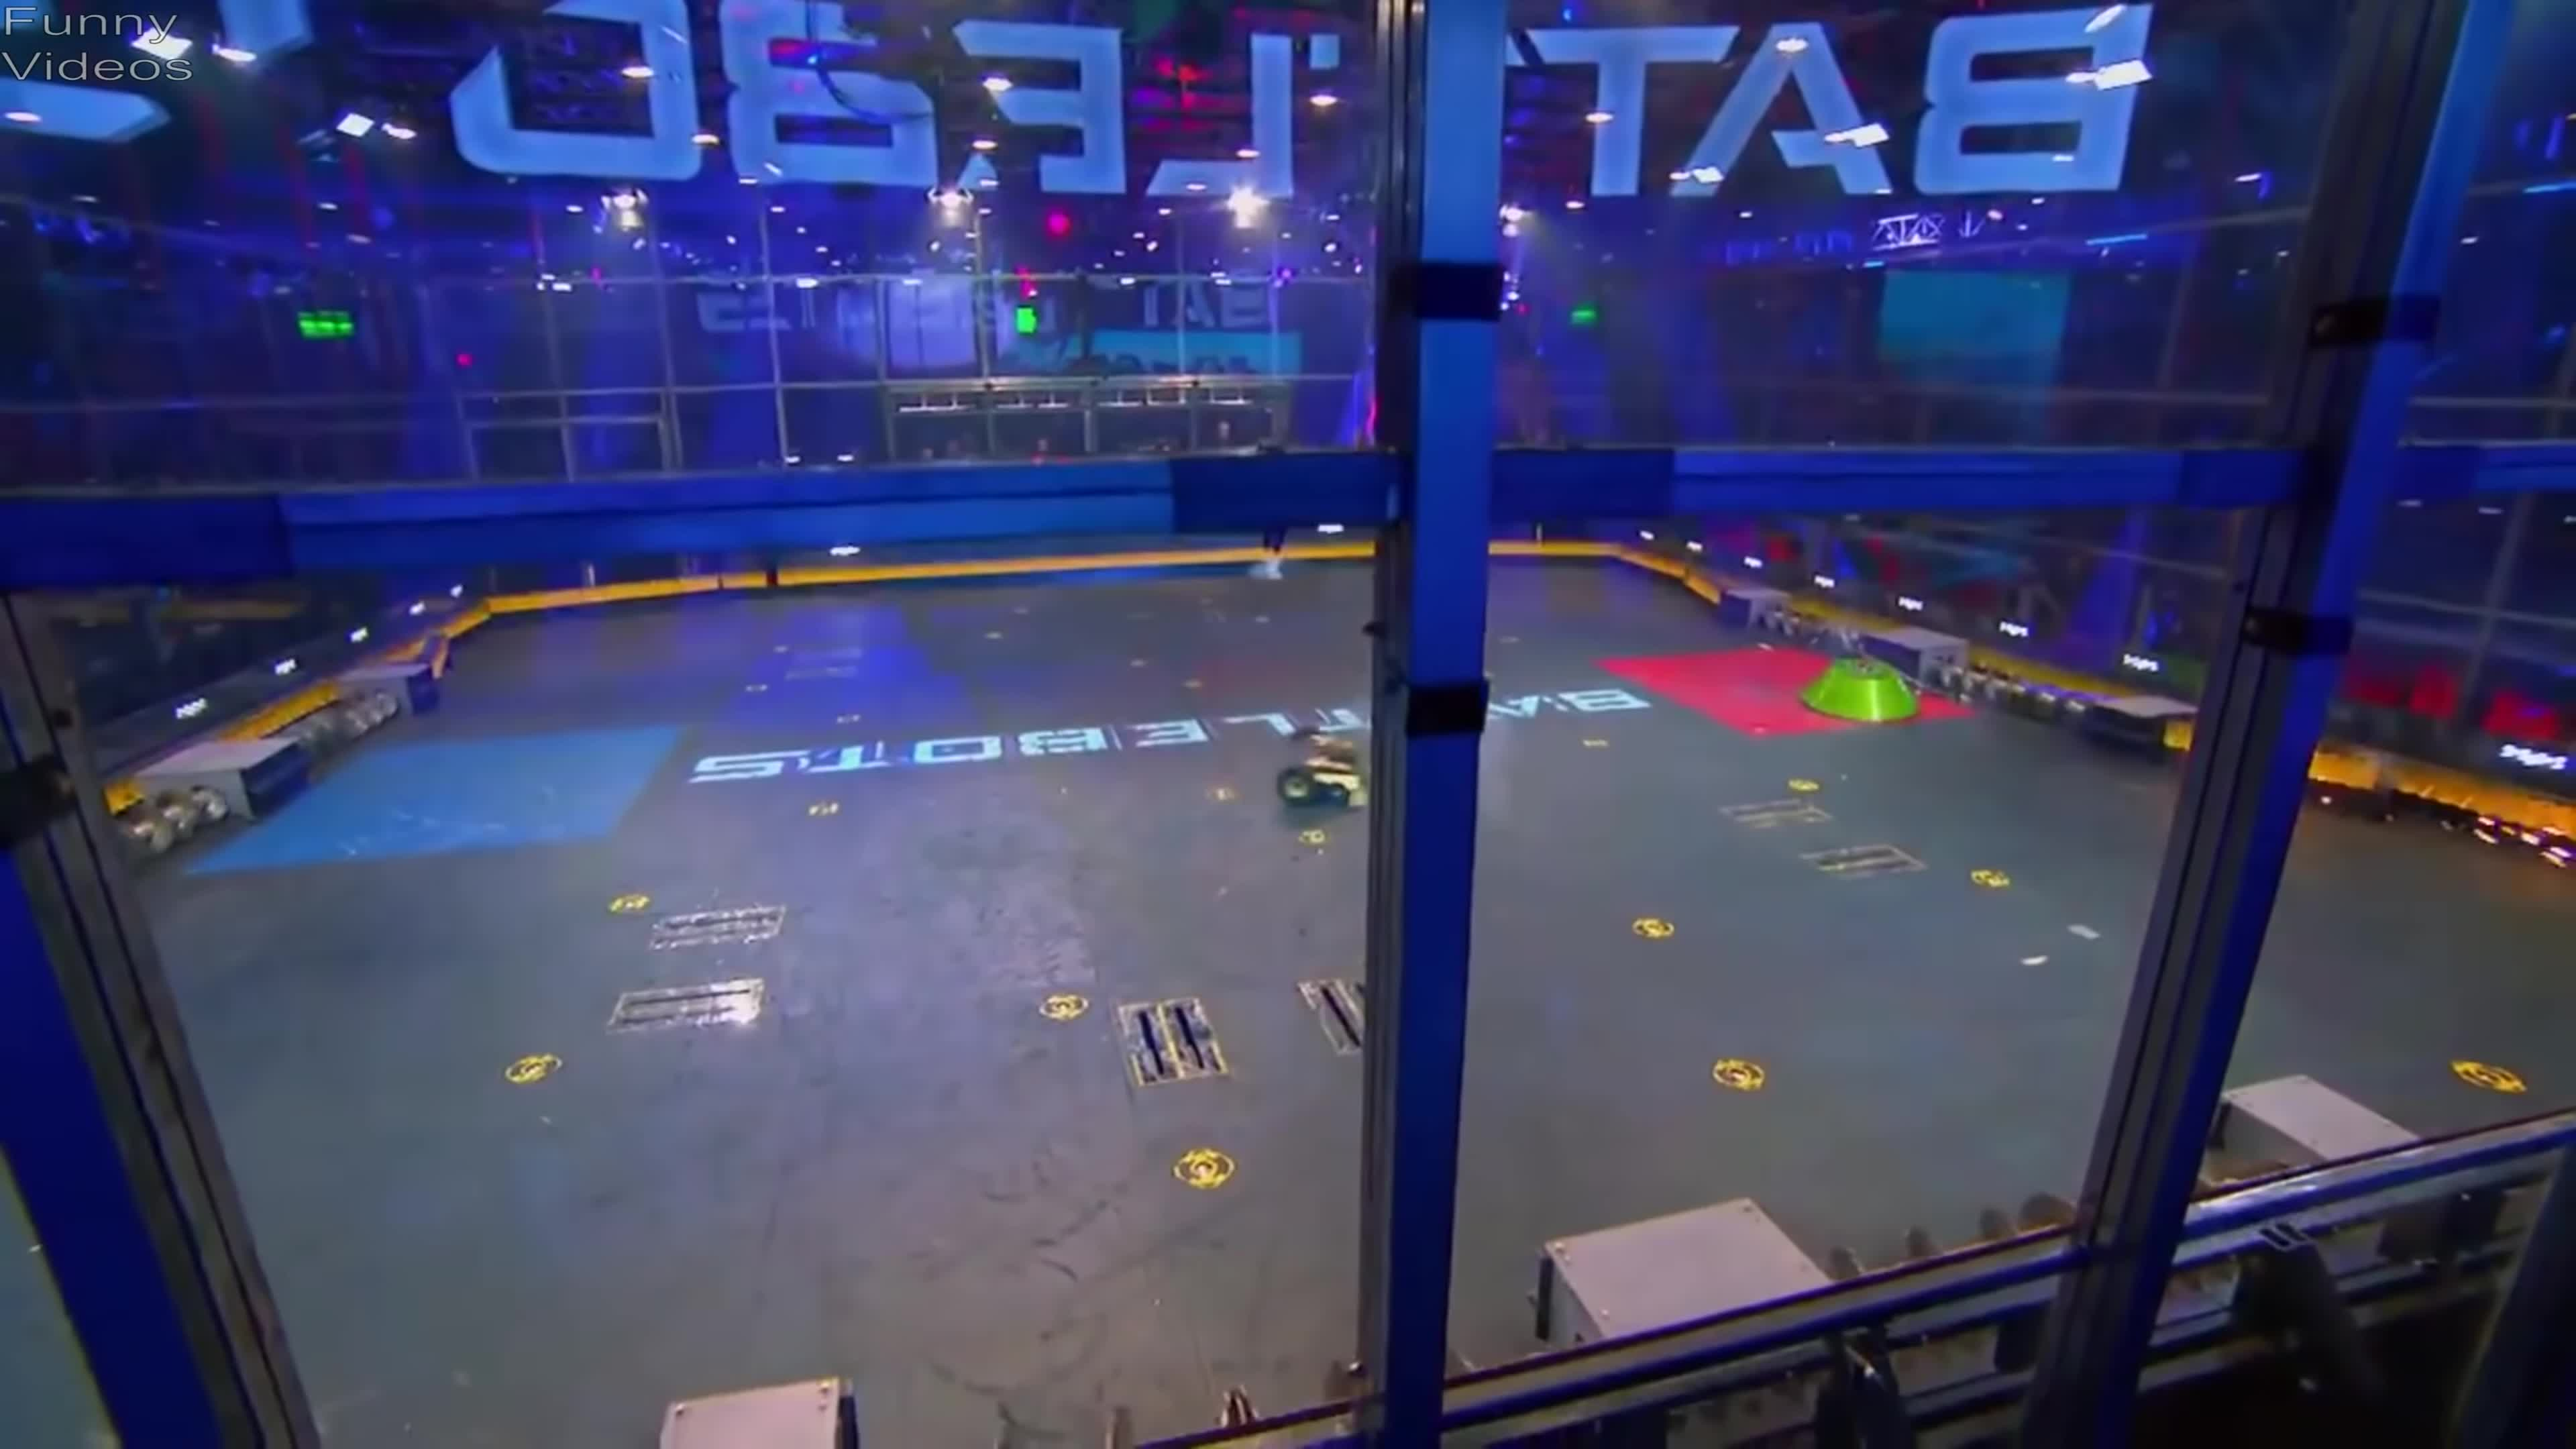combatbot: (1275, 716, 1368, 812), (1799, 653, 1921, 720)
